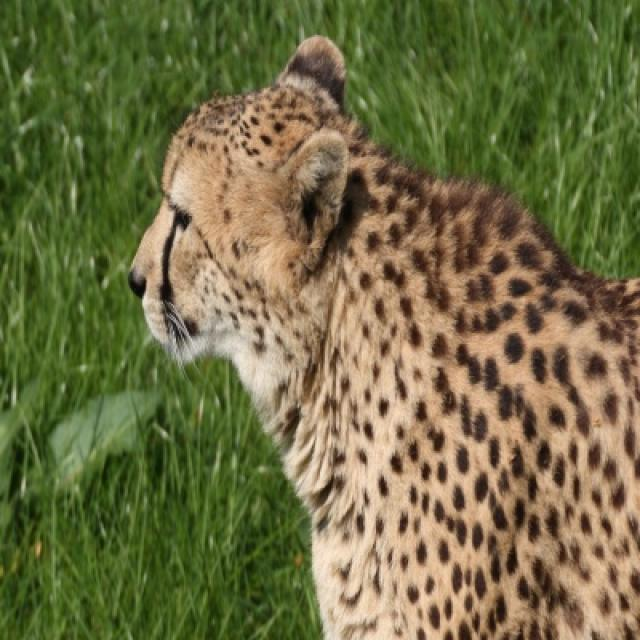Cheetah: (126, 35, 638, 637)
